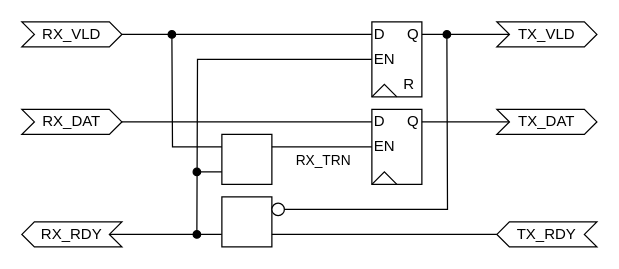
This 619x269 diagram has some shape labels left out. Here are the shapes that lost their labels. From the top down, the centre of each, then its label:
point 246,158: AND
point 246,221: OR
